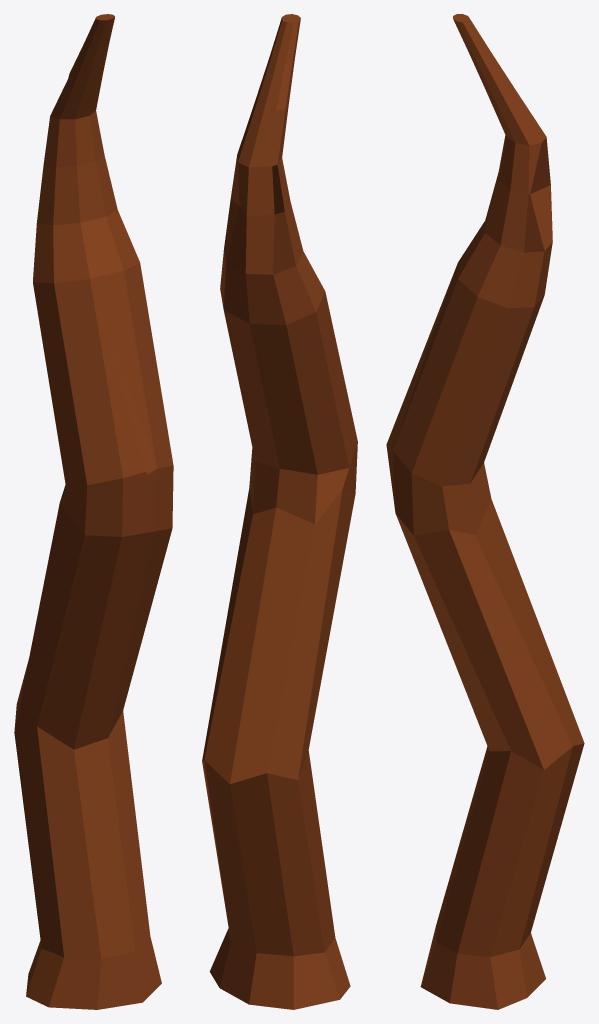
File: Tree_A-2.gltf
3 renders of one model, left to right at view 1: azimuth 30°, elevation 25°; view 2: azimuth 150°, elevation 25°; view 3: azimuth 270°, elevation 25°, orthographic.
Visible parts, largest first — view 1: cylinder; view 2: cylinder; view 3: cylinder.
Part boxes in pixels (left/top/right/bottom): cylinder: left=14, top=14, right=173, bottom=1009; cylinder: left=202, top=14, right=357, bottom=1009; cylinder: left=386, top=14, right=584, bottom=1009.
Bounding box in the file's own units: 0.5111 × 3.69 × 0.6889.
1 material, 1 textured.
